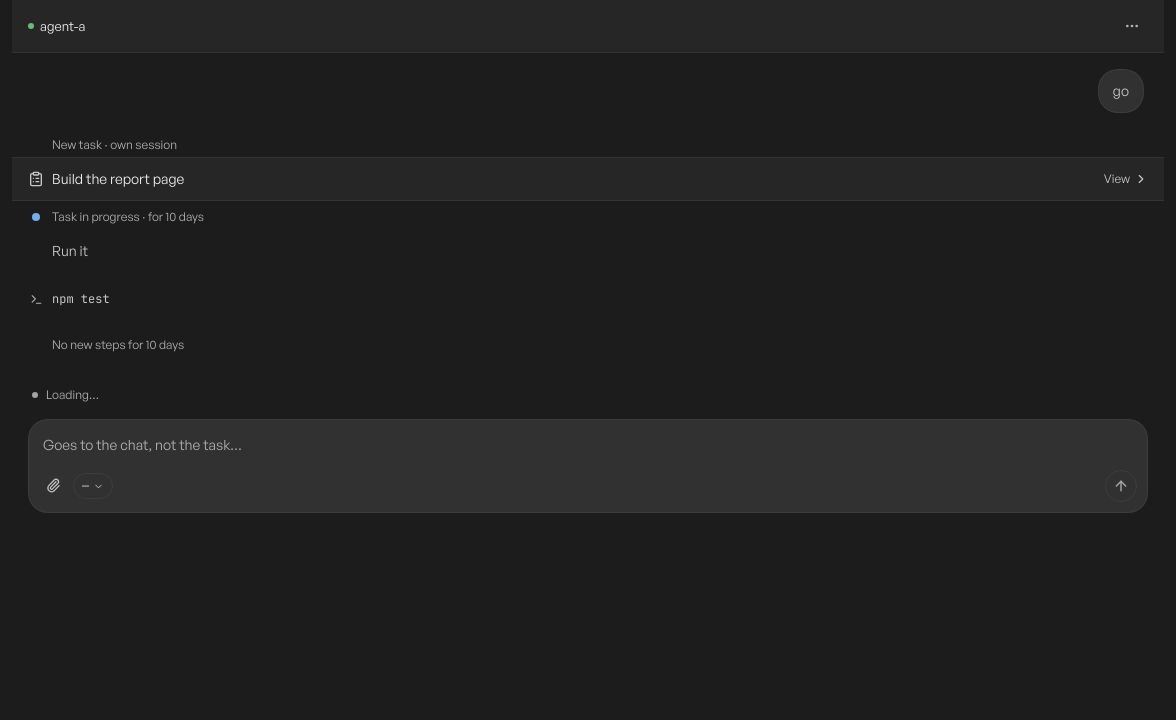
ChatView — task sections (spec A) › SHOULD-2: a tool whose detail fetch fails says so and loads again on 'Load again'
Click the button "npm test".
click(81, 299)  # box 28,277 -> 1148,321
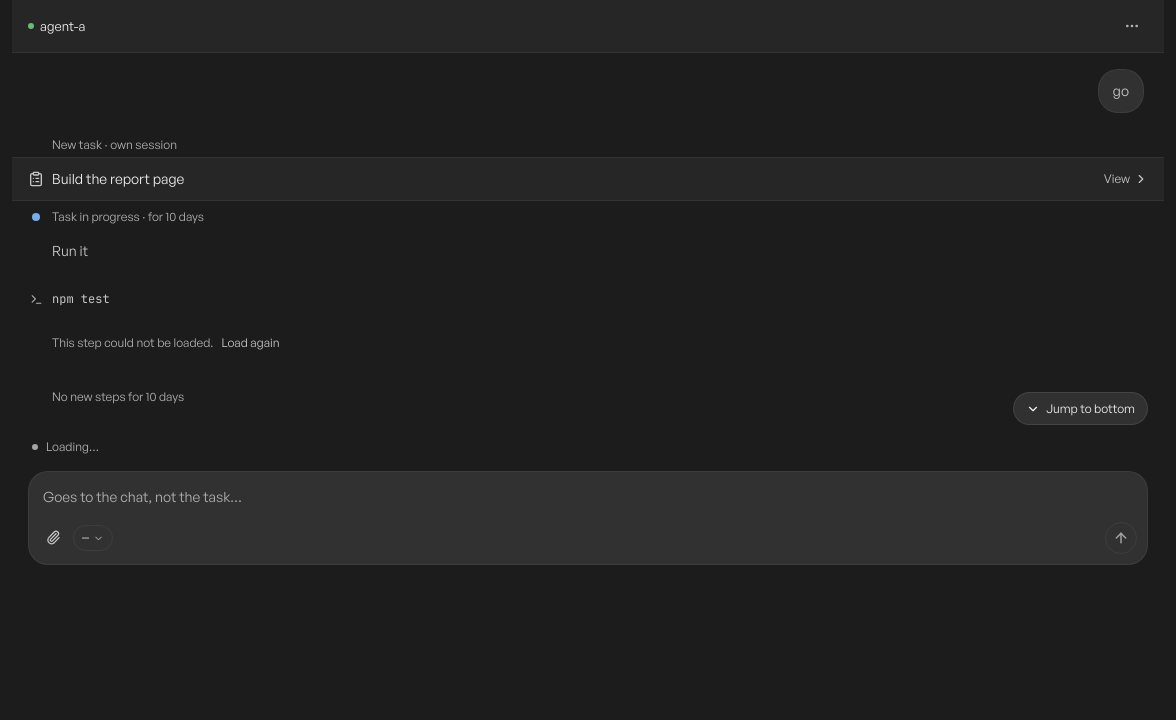
Check: the text "This step could not be loaded." is shown, box 52,335 -> 213,351
Click the button "Load again".
click(250, 343)  # box 221,321 -> 280,365
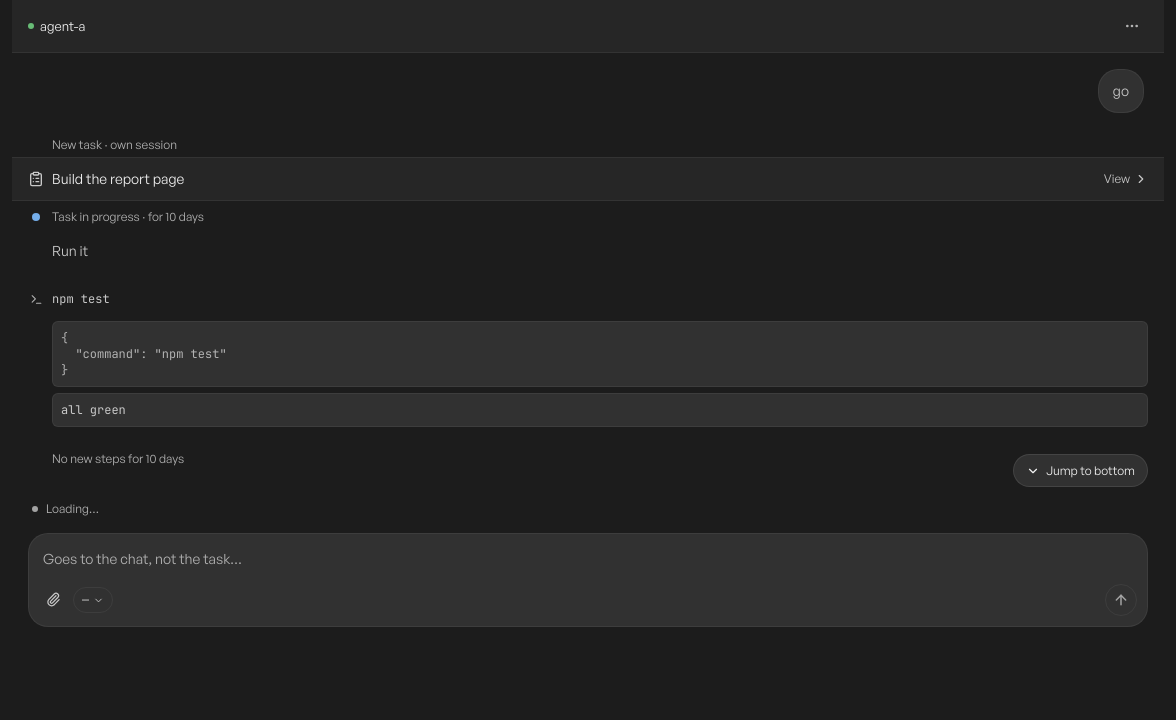
Check: the 3rd text "all green" is shown, box 61,402 -> 126,418
